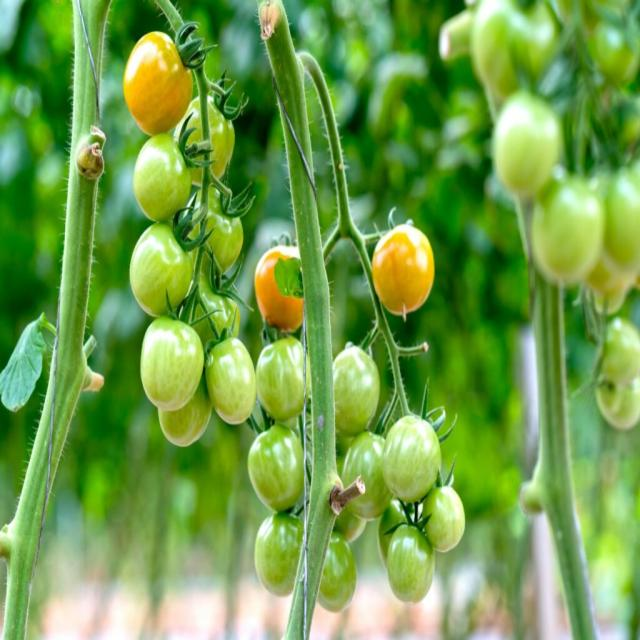level 3: (526, 160, 606, 287), (471, 0, 560, 111), (490, 87, 566, 205), (126, 222, 200, 322), (130, 129, 197, 227), (140, 315, 206, 414), (184, 184, 246, 286), (380, 412, 442, 511), (246, 424, 313, 515), (252, 338, 315, 434), (175, 95, 238, 188), (338, 428, 396, 524), (326, 342, 383, 439), (252, 508, 310, 600), (204, 338, 258, 432), (157, 363, 215, 450), (595, 321, 640, 433), (187, 282, 241, 370), (386, 516, 436, 608), (590, 11, 640, 94), (605, 159, 640, 274), (315, 531, 359, 615), (423, 480, 466, 560)
level 4: (122, 27, 196, 139), (369, 220, 437, 320), (254, 241, 316, 338)
